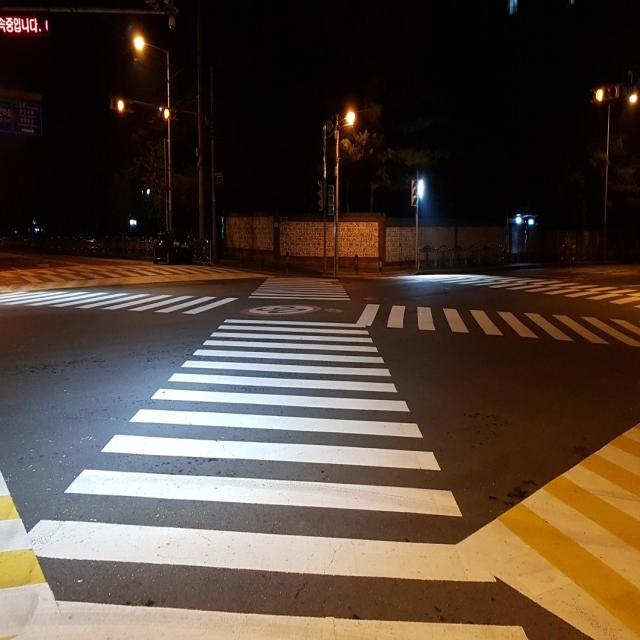횡단보도: (28, 276, 530, 639)
